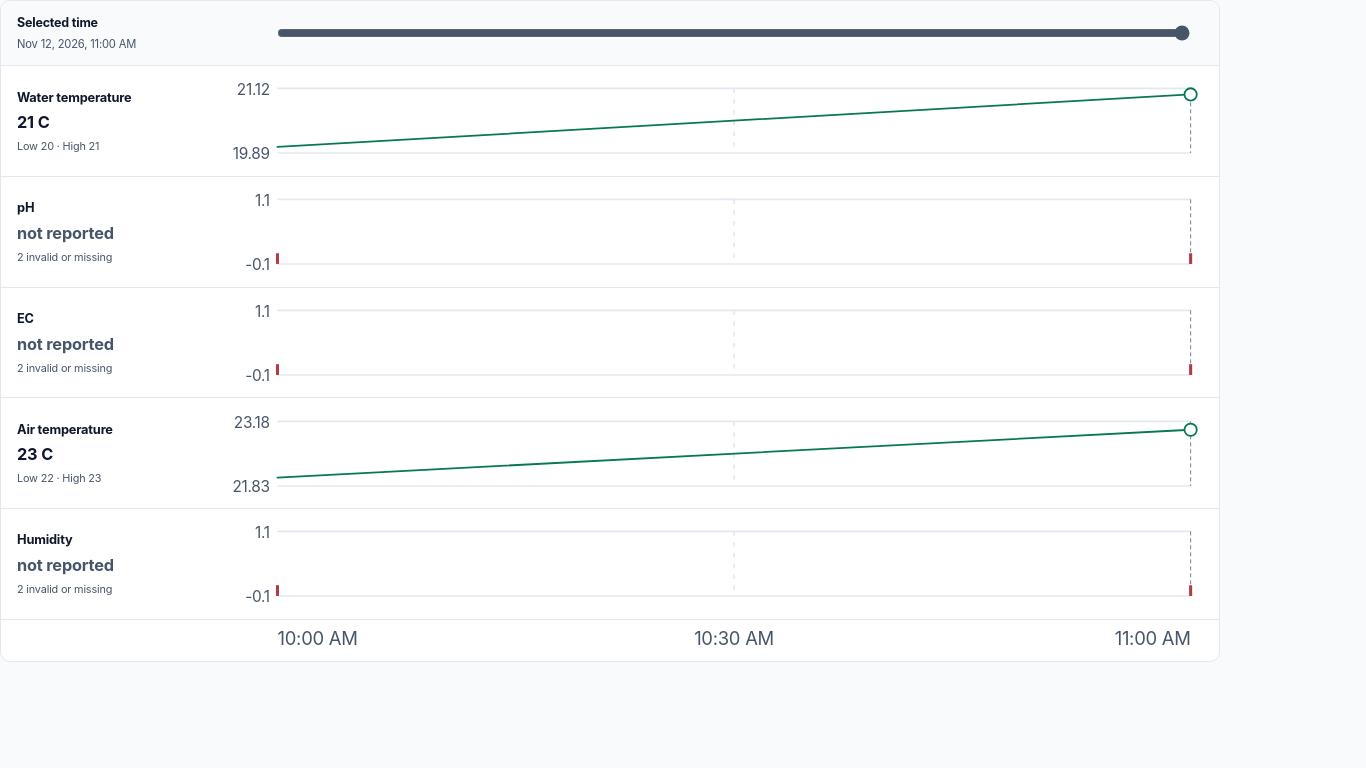
Test case: HistoryCompare › shows all sensors at the same selected time
expect the number of elements with class "compare-row" is 5: met, box [1,66,1219,176]; [1,176,1219,287]; [1,287,1219,397]; [1,397,1219,508]; [1,508,1219,619]
expect the text "21 C" is shown: met, box [17,110,50,135]
Set the slider named "Compare readings at time" to "0": (285, 33) [277,18,1190,48]
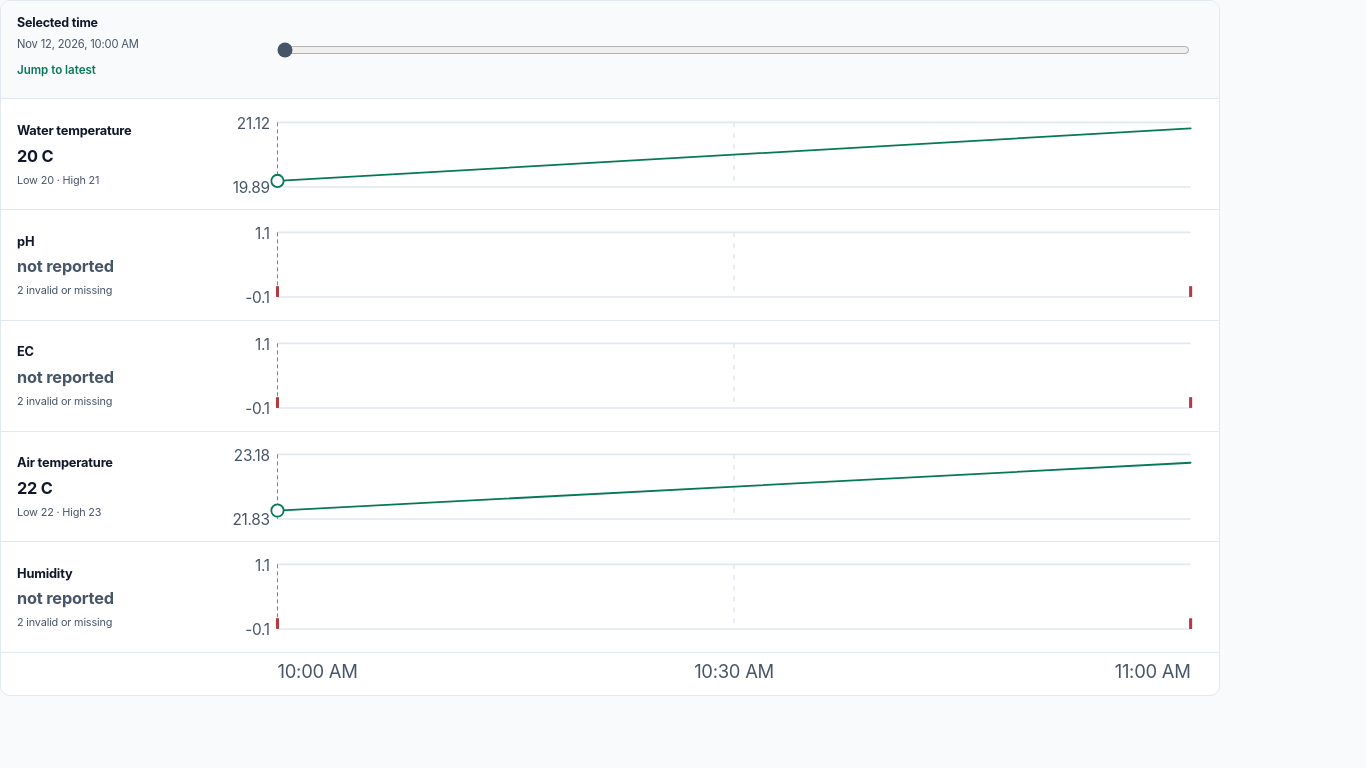
expect the text "22 C" is shown: met, box [17,476,53,500]
expect the text "20 C" is shown: met, box [17,144,54,168]
